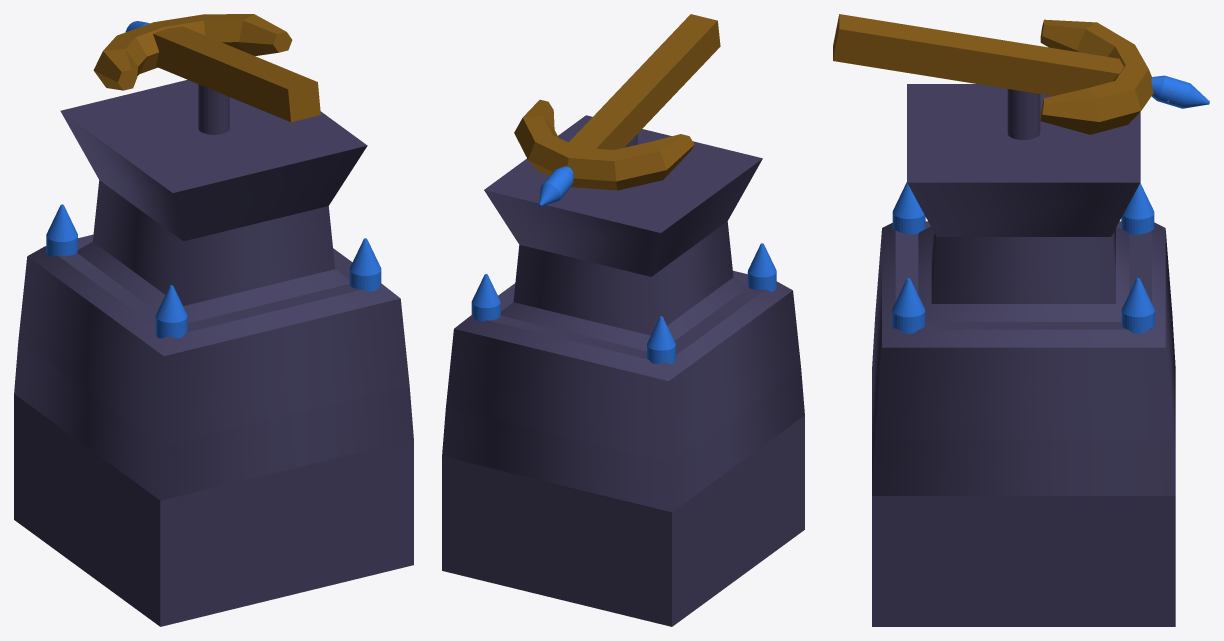
Rendered from TowerCrossMag.fbx.
3 renders of one model, left to right at view 1: azimuth 30°, elevation 25°; view 2: azimuth 150°, elevation 25°; view 3: azimuth 270°, elevation 25°, orthographic. The views are drawn at different scales.
Visible parts, largest first — view 1: Cylinder, arrow; view 2: Cylinder, arrow; view 3: Cylinder, arrow.
Boxes of the visible parts, x1,y1,x2,y2 form: Cylinder: [14, 79, 413, 626]; arrow: [93, 14, 320, 122]; Cylinder: [442, 115, 804, 626]; arrow: [514, 14, 720, 206]; Cylinder: [872, 84, 1175, 626]; arrow: [833, 14, 1209, 134].
Size of the model in its own units: 280 by 551 by 348.
